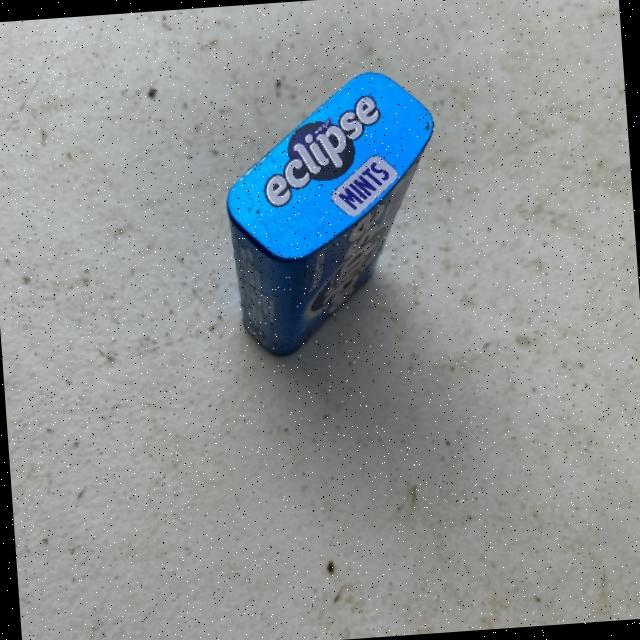metal: (216, 65, 448, 359)
